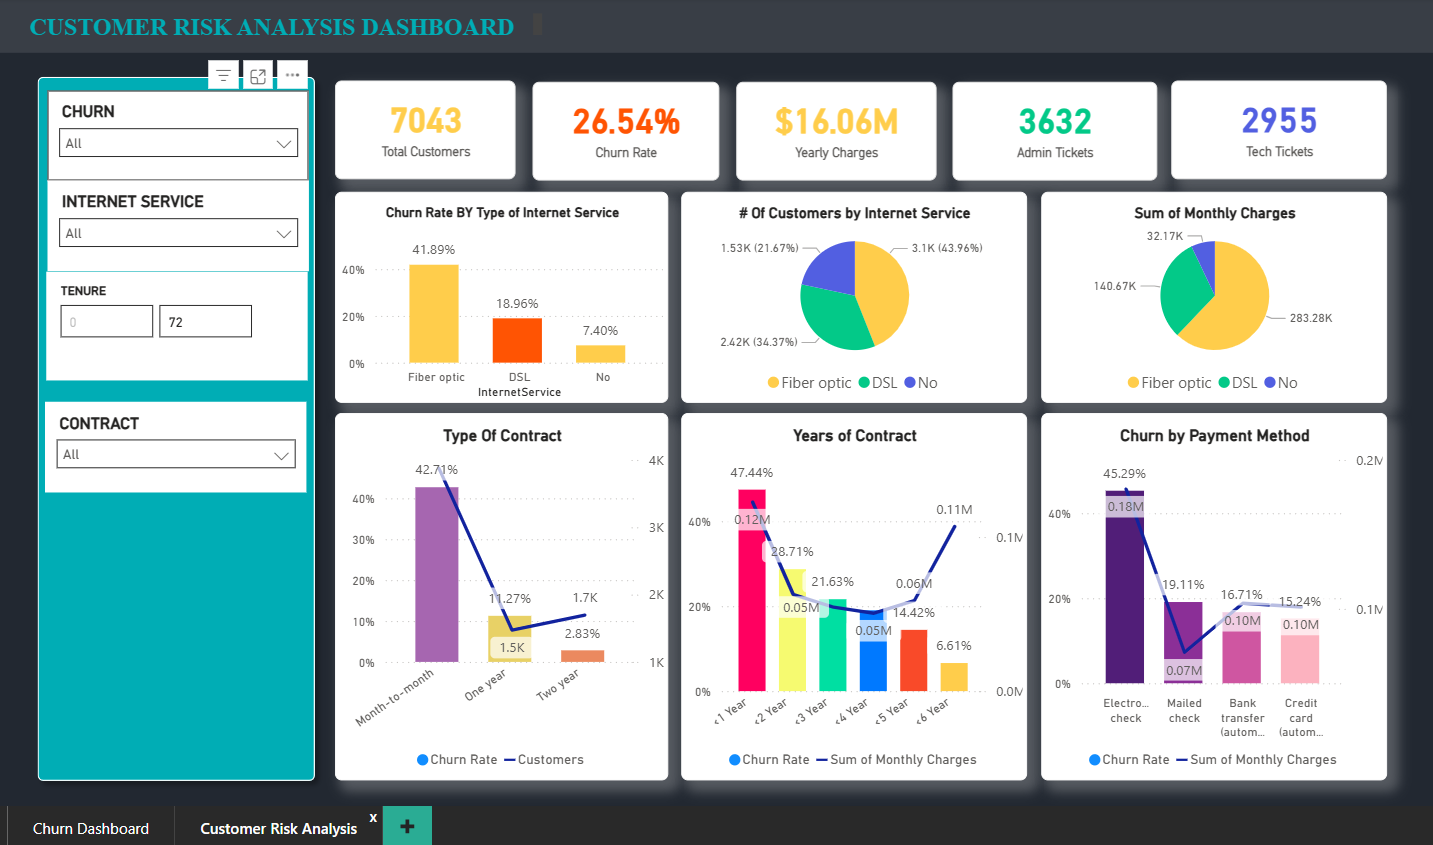

This screenshot's page, from the dashboard's own definition file:
{"tool":"powerbi","page":{"name":"Customer Risk Analysis","canvas":[1280,720],"ordinal":1},"visuals":[{"type":"shape","box":[0,0,1280,49],"z":0},{"type":"textbox","box":[20.9,8.6,466.3,31.9],"z":1000},{"type":"shape","box":[25,61,265,645],"z":2000},{"type":"slicer","fields":{"Values":["Churn.Churn"]},"box":[42,82,233,81],"z":3000},{"type":"slicer","fields":{"Values":["Churn.InternetService"]},"box":[42,163,233,81],"z":4000},{"type":"slicer","fields":{"Values":["Churn.tenure"]},"box":[41.7,244.2,233.1,96.9],"z":5000},{"type":"slicer","fields":{"Values":["Churn.Contract"]},"box":[40.5,359.5,233.1,81],"z":6000},{"type":"card","fields":{"Values":["CountNonNull(01 Churn-Dataset.customerID)"]},"box":[298,74,161,88],"z":7000},{"type":"card","fields":{"Values":["Churn.% Churn Rate"]},"box":[474,75,166,88],"z":8000},{"type":"card","fields":{"Values":["Sum(Churn.TotalCharges)"]},"box":[656,75,178,88],"z":9000},{"type":"card","fields":{"Values":["Sum(Churn.numAdminTickets)"]},"box":[848,75,182,88],"z":10000},{"type":"card","fields":{"Values":["Sum(Churn.numTechTickets)"]},"box":[1043,74,192,88],"z":11000},{"type":"columnChart","title":"Churn Rate BY Type of Internet Service","fields":{"Y":["Churn.% Churn Rate"],"Category":["Churn.InternetService"]},"box":[298,172,297,188],"z":12000},{"type":"pieChart","title":"# Of Customers by Internet Service","fields":{"Y":["CountNonNull(Churn.customerID)"],"Category":["Churn.InternetService"]},"box":[607,172,308,188],"z":13000},{"type":"pieChart","title":"Sum of Monthly Charges","fields":{"Category":["Churn.InternetService"],"Y":["Sum(Churn.MonthlyCharges)"]},"box":[927,172,308,188],"z":14000},{"type":"lineStackedColumnComboChart","title":"Type Of Contract","fields":{"Y2":["CountNonNull(Churn.customerID)"],"Y":["Churn.% Churn Rate"],"Category":["Churn.Contract"]},"box":[298,370,297,327],"z":15000},{"type":"lineStackedColumnComboChart","title":"Years of Contract","fields":{"Y":["Churn.% Churn Rate"],"Y2":["Sum(Churn.MonthlyCharges)"],"Category":["Churn.Tenure(in years)"]},"box":[607,370,308,327],"z":16000},{"type":"lineStackedColumnComboChart","title":"Churn by Payment Method","fields":{"Y":["Churn.% Churn Rate"],"Y2":["Sum(Churn.MonthlyCharges)"],"Category":["Churn.PaymentMethod"]},"box":[927,370,308,327],"z":17000}]}

Visuals, with their boxes in screenshot pixels (x1, y1, x2, y2):
shape: [x1=7, y1=0, x2=1421, y2=54]
textbox: [x1=31, y1=9, x2=545, y2=45]
shape: [x1=35, y1=67, x2=328, y2=779]
slicer - Churn.Churn: [x1=54, y1=91, x2=311, y2=180]
slicer - Churn.InternetService: [x1=54, y1=180, x2=311, y2=269]
slicer - Churn.tenure: [x1=53, y1=270, x2=311, y2=377]
slicer - Churn.Contract: [x1=52, y1=397, x2=310, y2=486]
card - CountNonNull(01 Churn-Dataset.customerID): [x1=336, y1=82, x2=514, y2=179]
card - Churn.% Churn Rate: [x1=531, y1=83, x2=714, y2=180]
card - Sum(Churn.TotalCharges): [x1=732, y1=83, x2=928, y2=180]
card - Sum(Churn.numAdminTickets): [x1=944, y1=83, x2=1145, y2=180]
card - Sum(Churn.numTechTickets): [x1=1159, y1=82, x2=1371, y2=179]
"Churn Rate BY Type of Internet Service" columnChart: [x1=336, y1=190, x2=664, y2=397]
"# Of Customers by Internet Service" pieChart: [x1=678, y1=190, x2=1018, y2=397]
"Sum of Monthly Charges" pieChart: [x1=1031, y1=190, x2=1371, y2=397]
"Type Of Contract" lineStackedColumnComboChart: [x1=336, y1=408, x2=664, y2=770]
"Years of Contract" lineStackedColumnComboChart: [x1=678, y1=408, x2=1018, y2=770]
"Churn by Payment Method" lineStackedColumnComboChart: [x1=1031, y1=408, x2=1371, y2=770]
